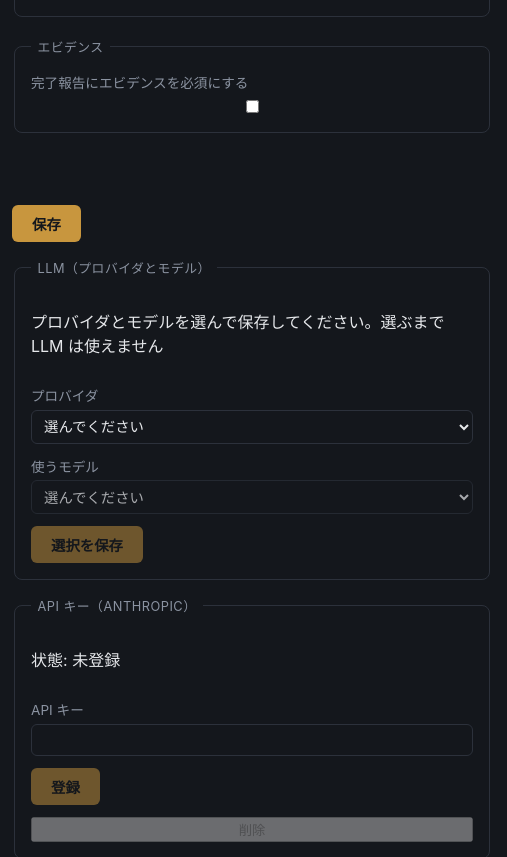
設定画面の選択の欄（製品版） › S2-V8: PUT が 400 を返すと、エラーを表示し、「保存しました」を表示しない
(page scrolled)
Select "OpenAI" in the dropdown labelled "プロバイダ" at (252, 427), box [31,410,473,444]
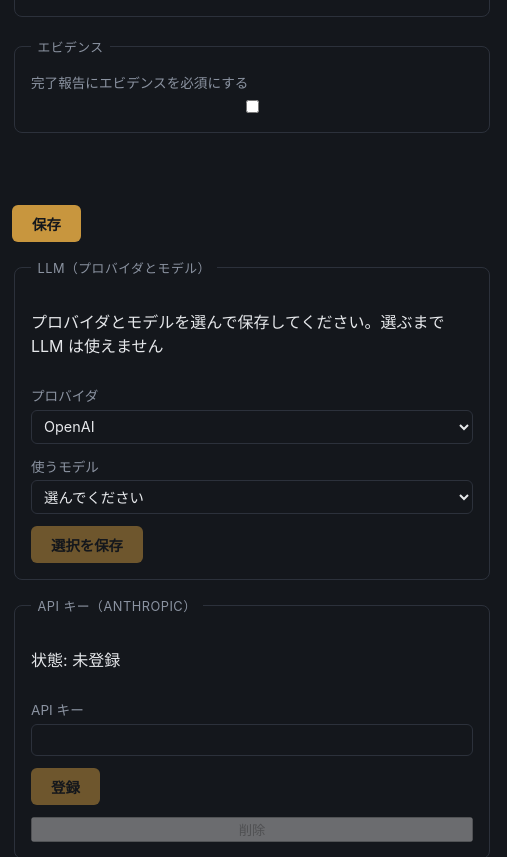
Select "GPT-6 Luna" in the dropdown labelled "使うモデル" at (252, 497), box [31,480,473,514]
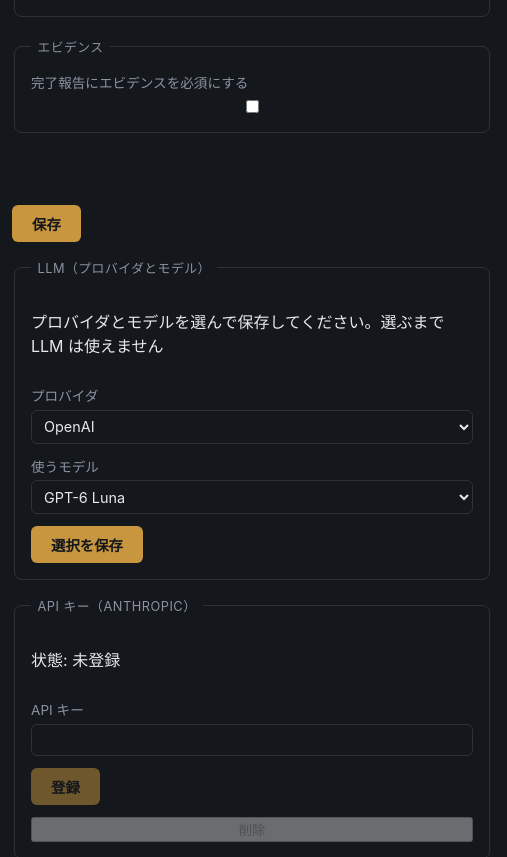
Click the button "選択を保存" at (87, 545), box [31,526,143,563]
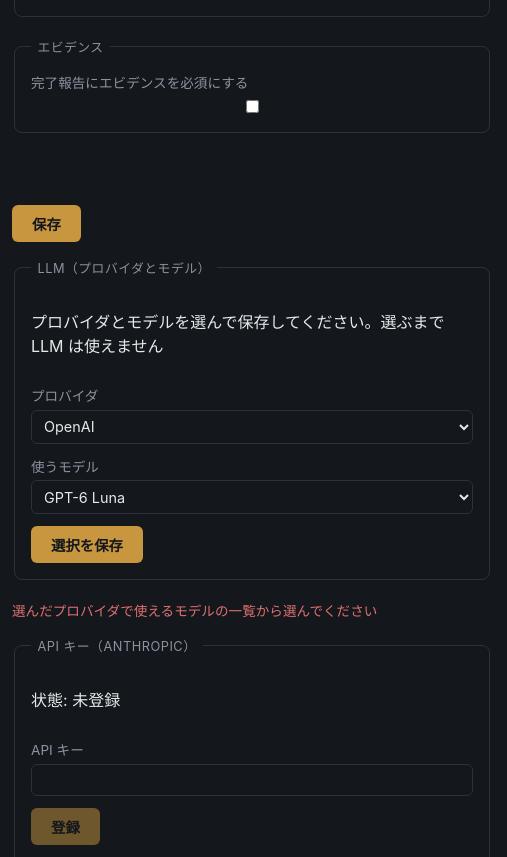
Expected: the message "プロバイダとモデルを選んで保存してください。選ぶまで LLM は使えません" is shown, [31,309,473,357]
Now the message "選んだプロバイダで使えるモデルの一覧から選んでください" is shown, box [12,603,377,619]
